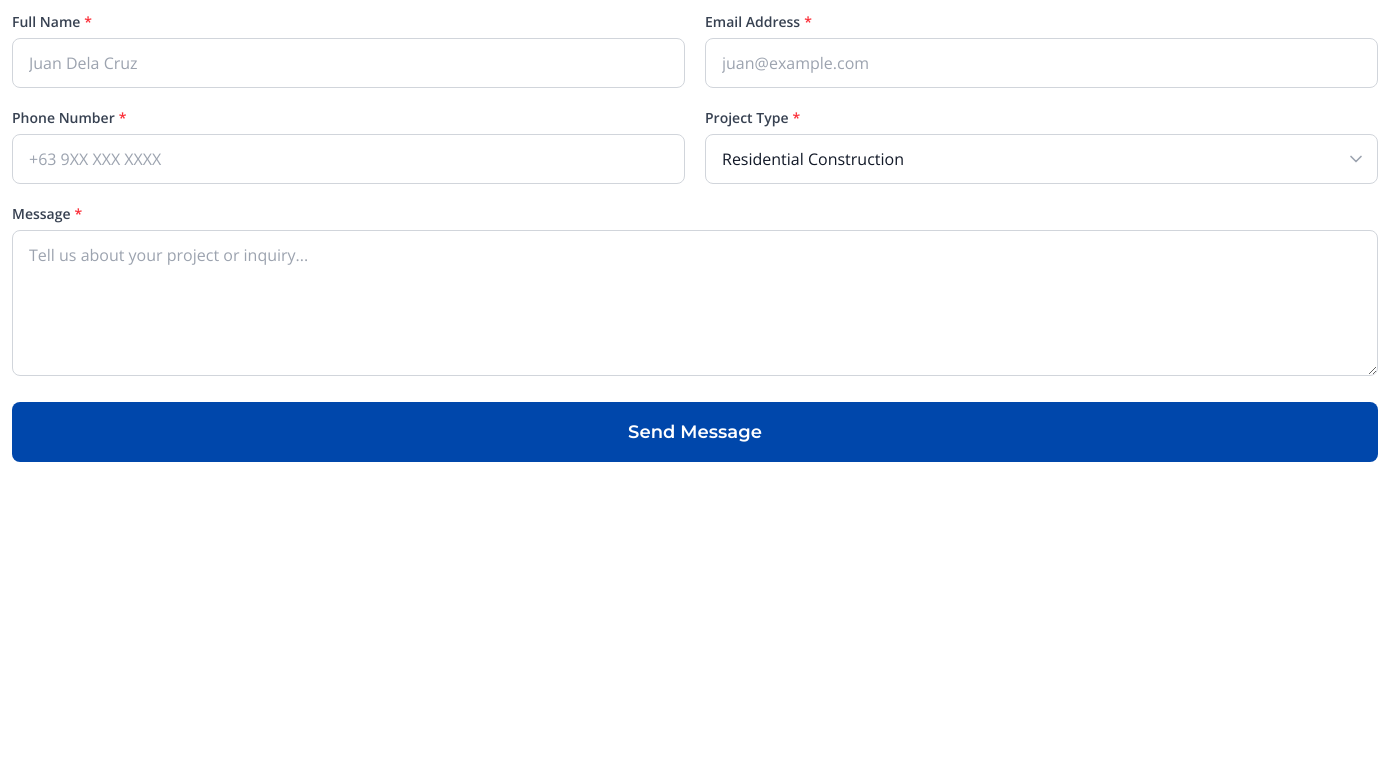
it: ContactForm › Validation › shows errors on empty submit
This screenshot has width=1390, height=780.
Click the button "Send Message" at (695, 432), box [12,402,1378,462]
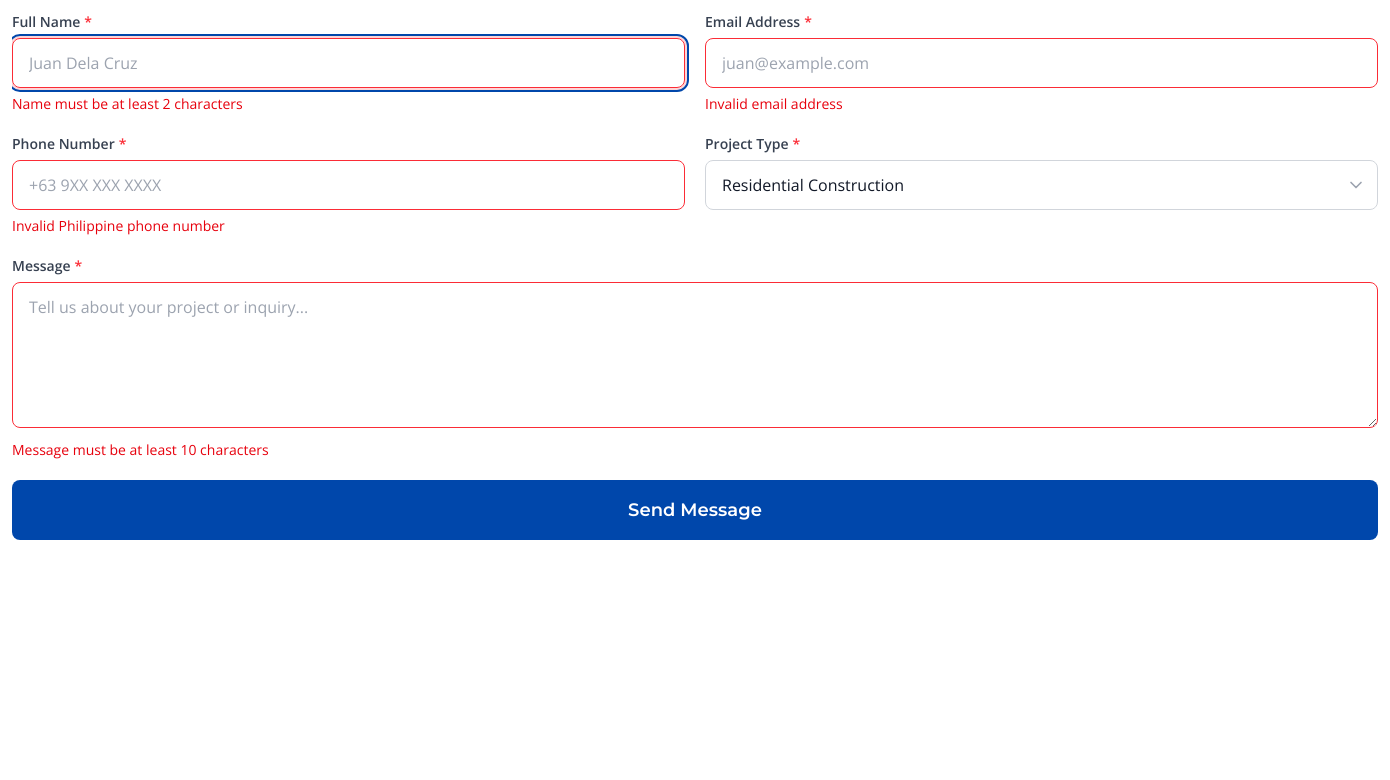
Expected: the text "Name must be at least 2 characters" is shown, [12,94,243,113]
